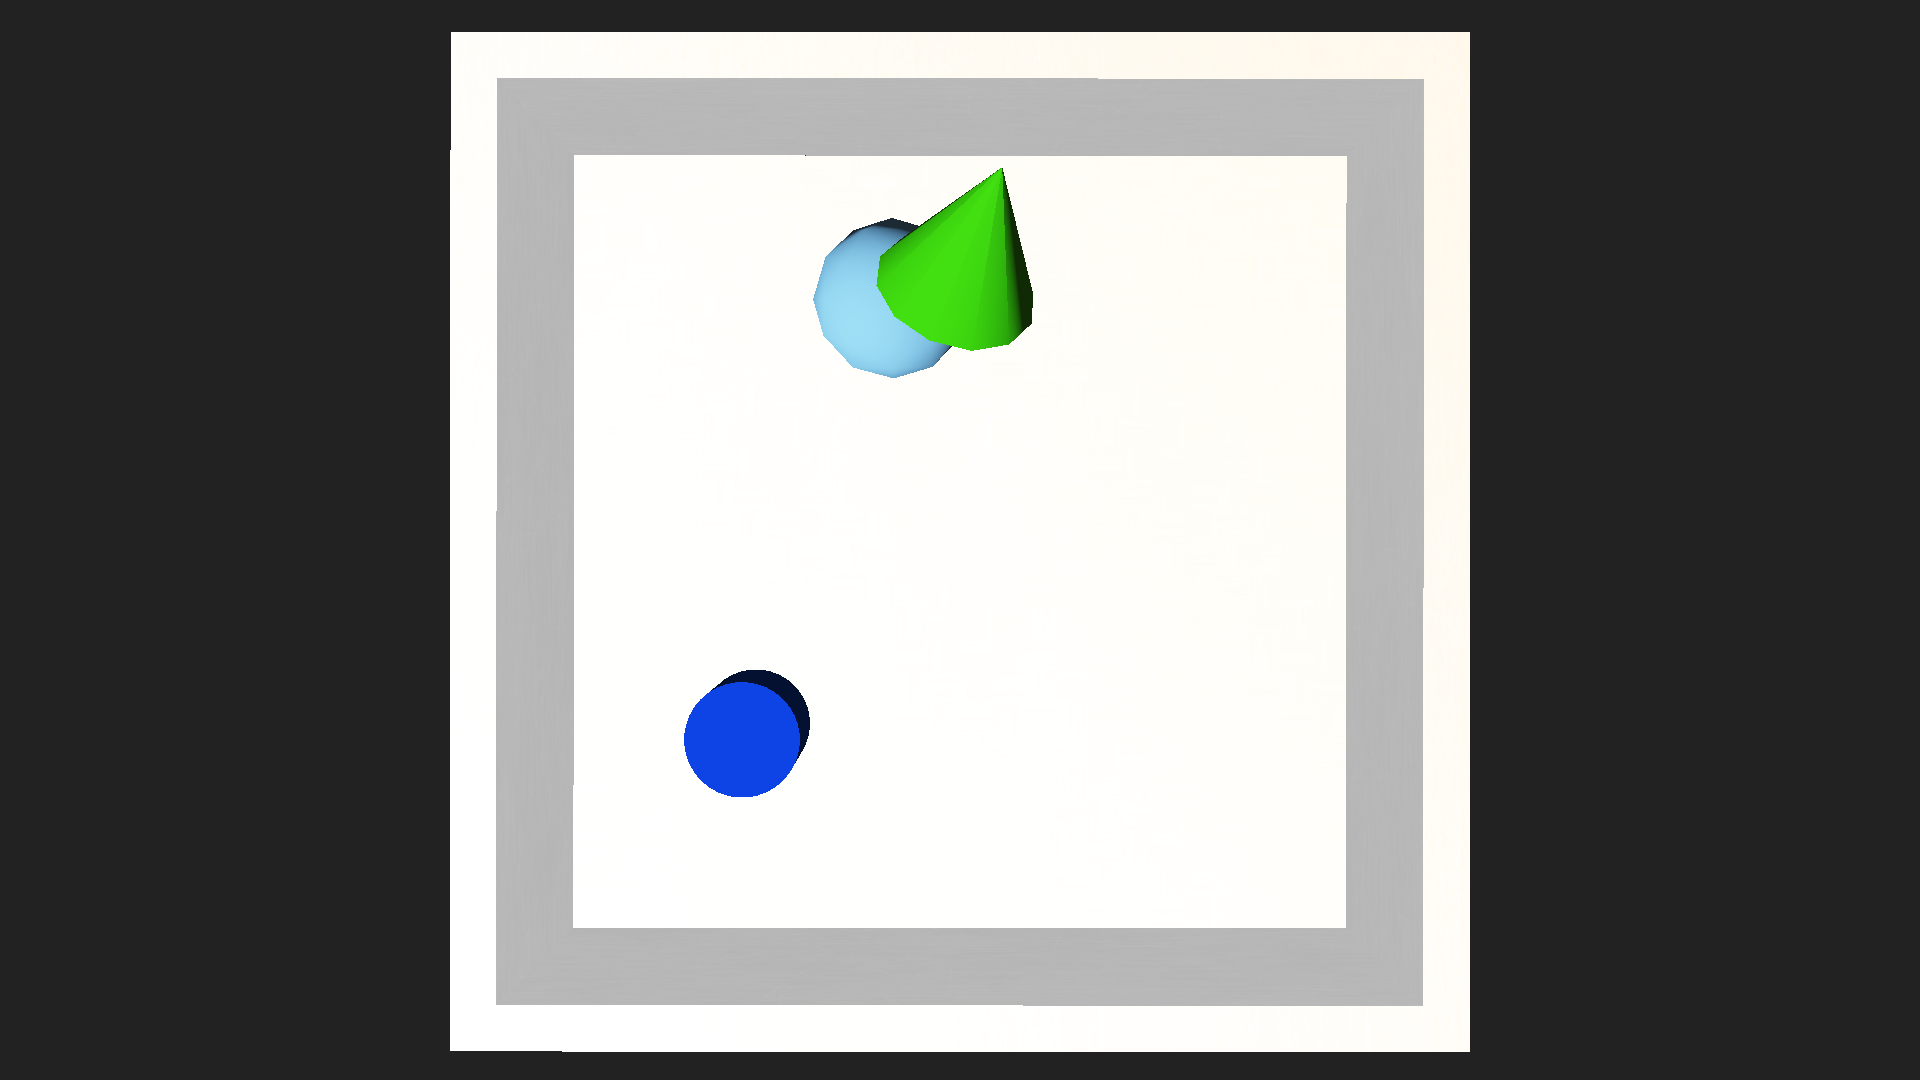cone: (682, 669, 810, 798)
cylinder: (862, 90, 1096, 355)
